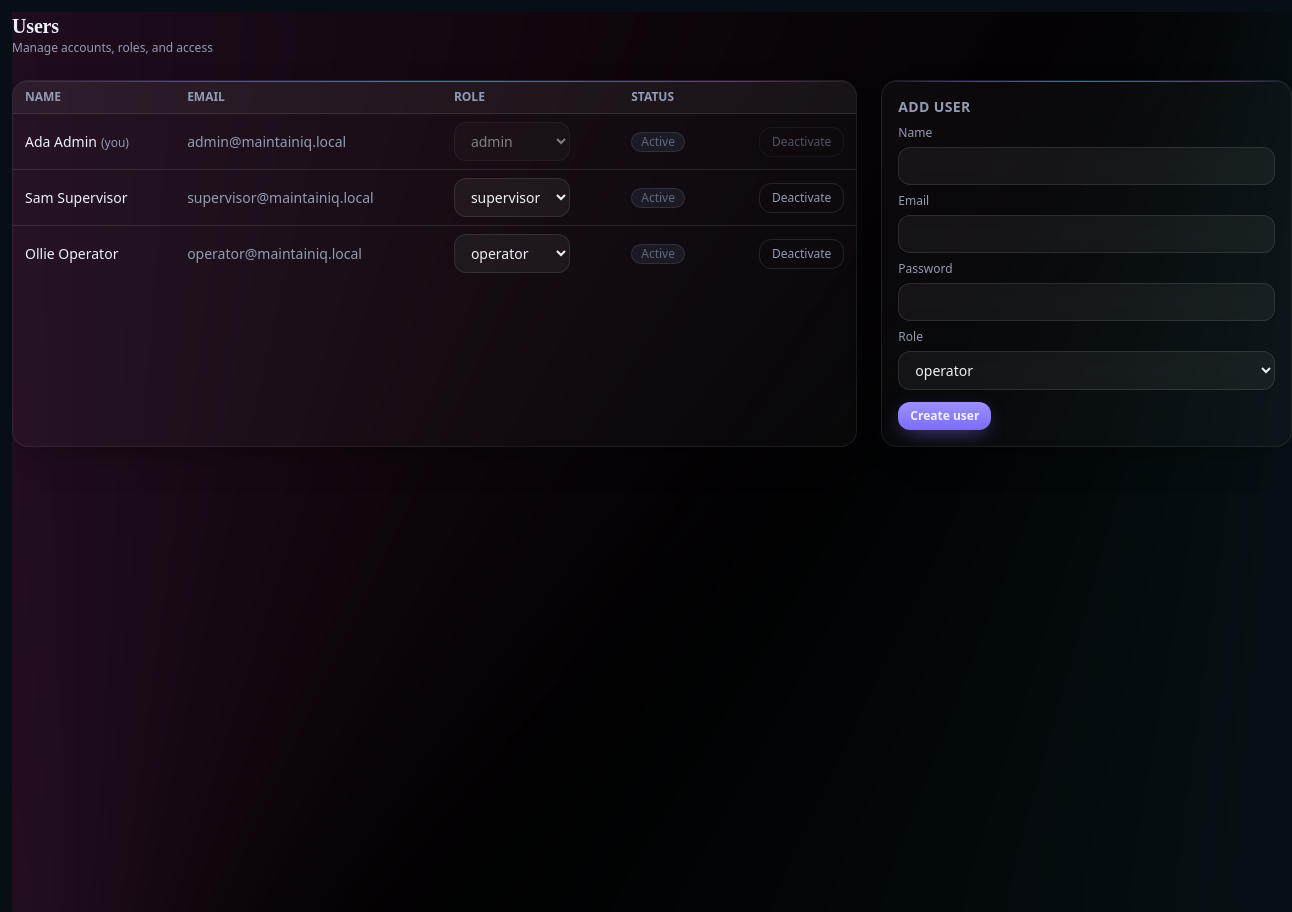
it: AdminUsersPage › creates a new user and adds it to the table
Expected: the text "Sam Supervisor" is shown, left=13, top=170, right=175, bottom=226
Step 1. Type "Nora Newbie" into the field labelled "Name" → (1087, 166), box left=898, top=147, right=1275, bottom=185
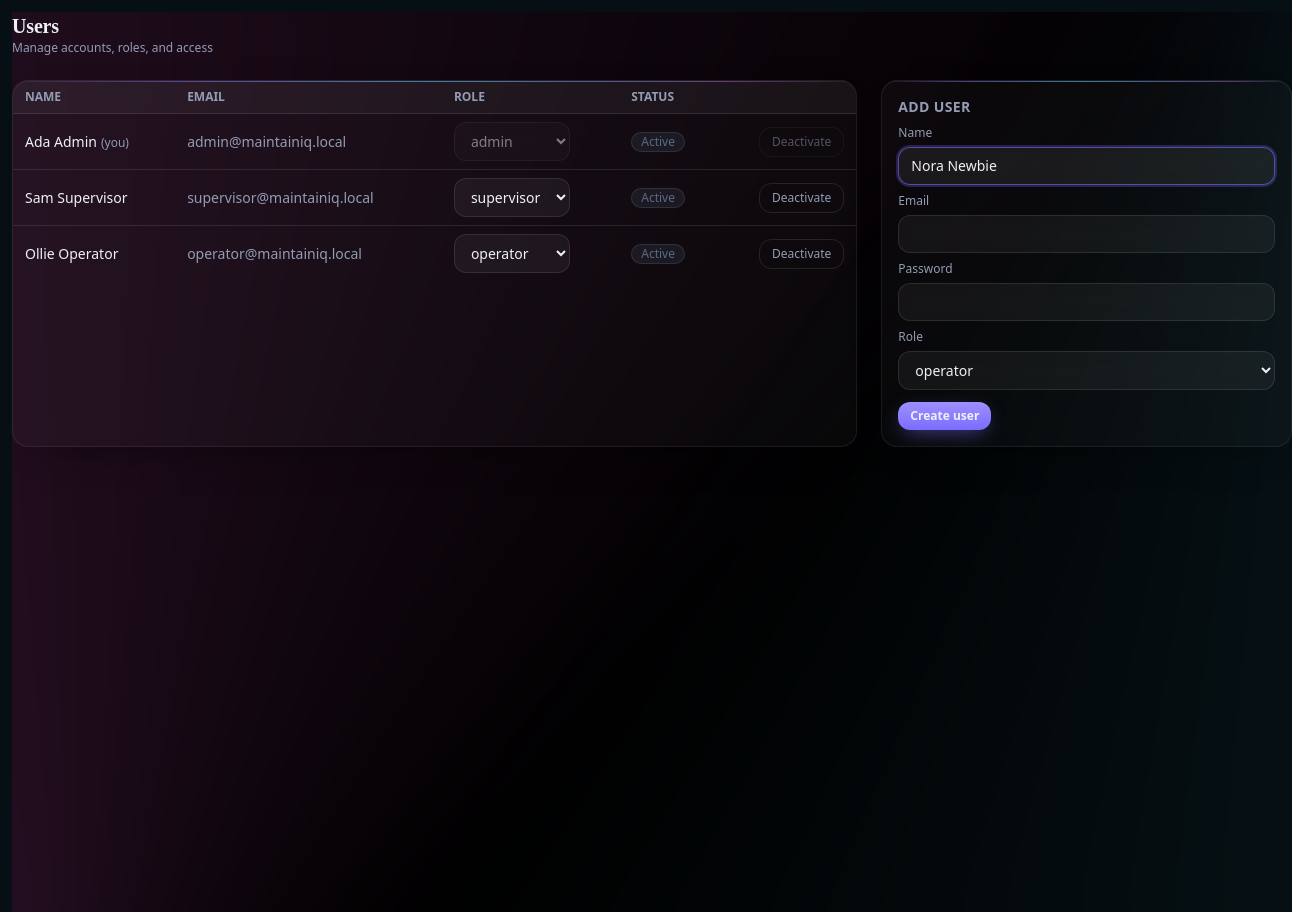
Step 2. Type "nora@maintainiq.local" into the field labelled "Email" → (1087, 234), box left=898, top=215, right=1275, bottom=253
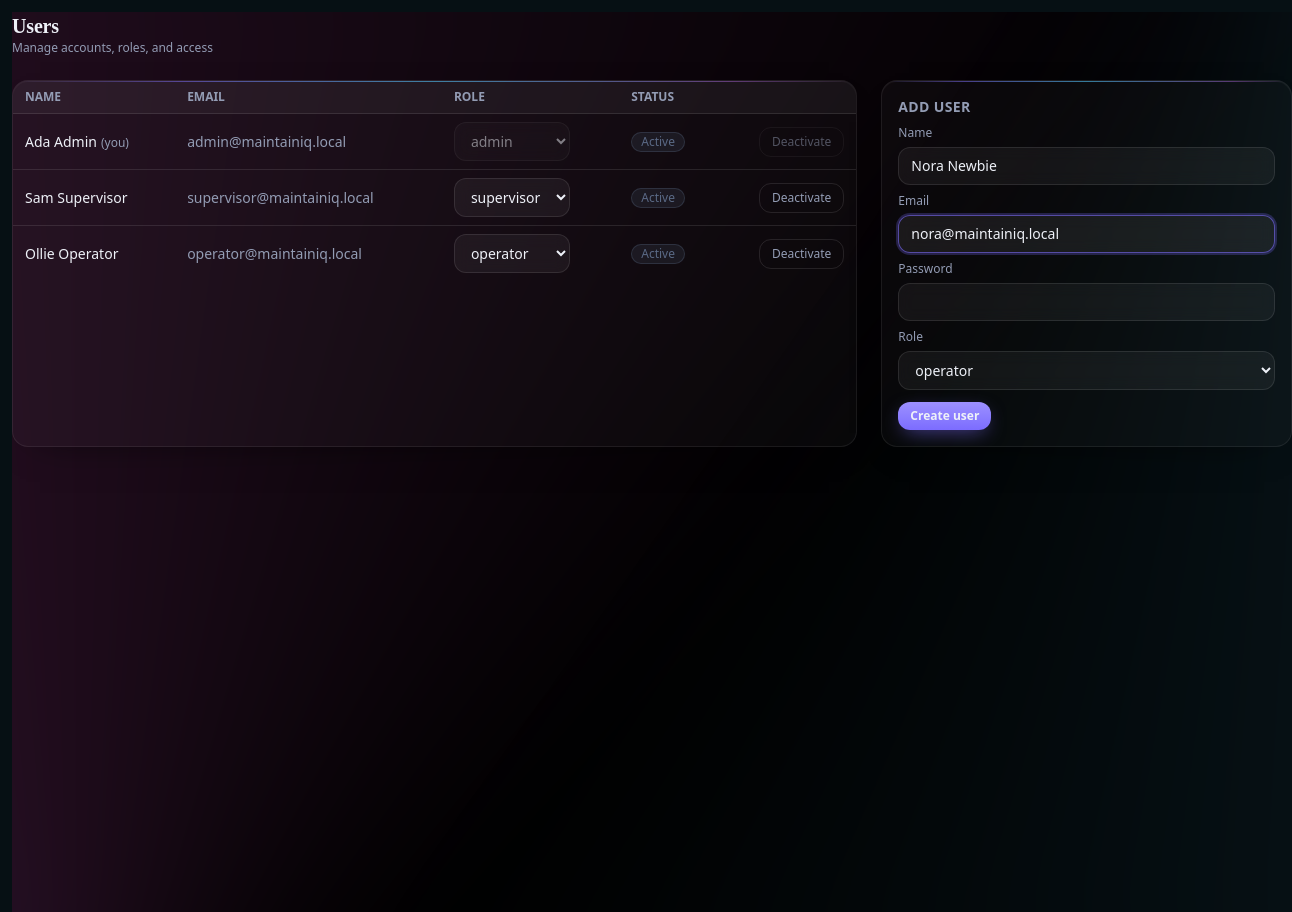
Step 3. Type "hunter2" into the password field labelled "Password" → (1087, 302), box left=898, top=283, right=1275, bottom=321
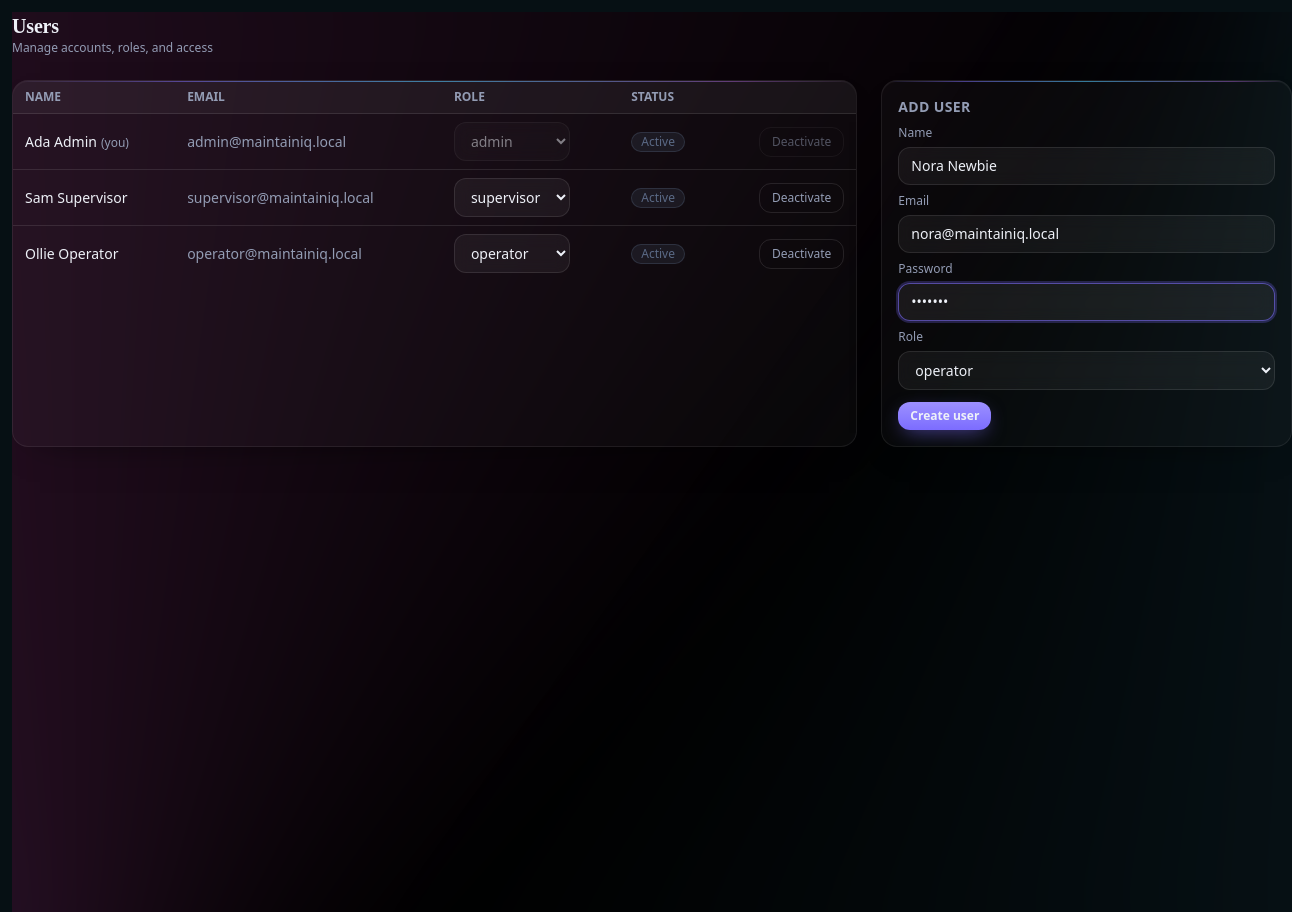
Step 4. Click the button "Create user" → (945, 416), box left=898, top=402, right=991, bottom=430
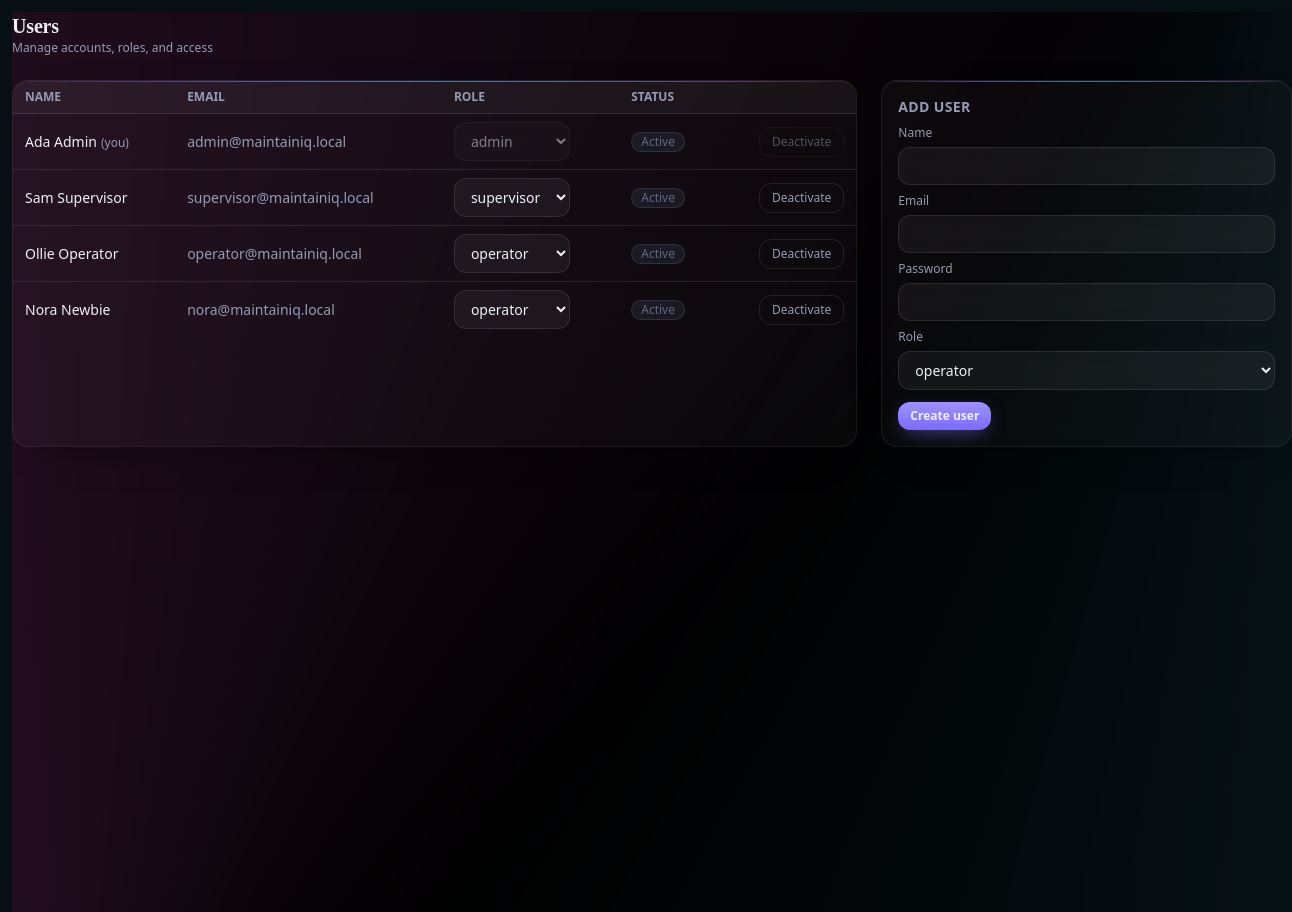
Now the text "Nora Newbie" is shown, box left=13, top=282, right=175, bottom=337
Now the text "nora@maintainiq.local" is shown, box left=175, top=282, right=442, bottom=337
